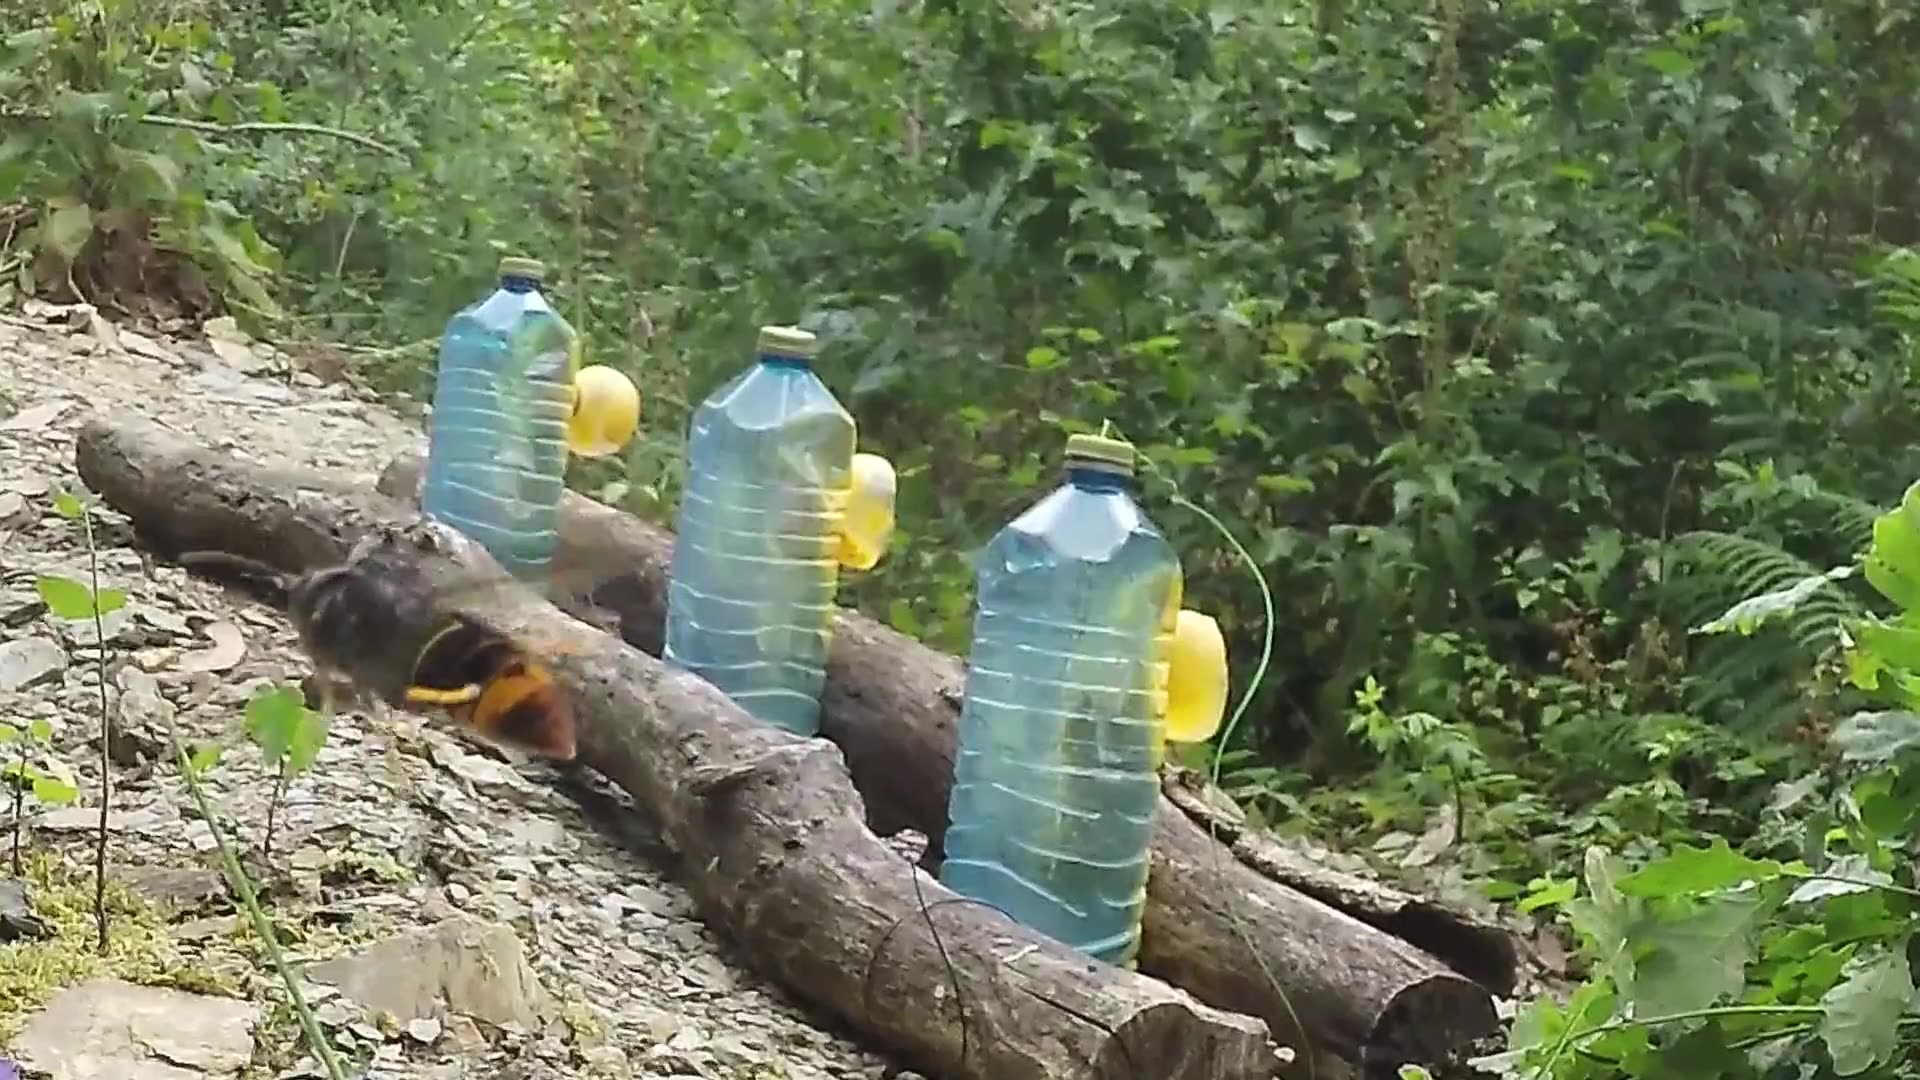hornet: (272, 553, 601, 767)
